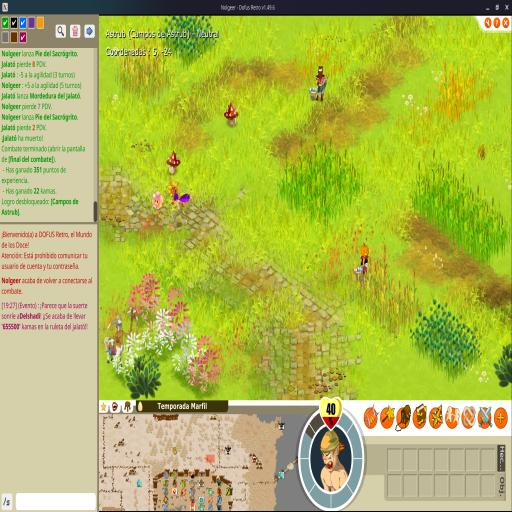Enemigos: (166, 150, 181, 176), (224, 102, 239, 127), (167, 180, 179, 206), (152, 190, 164, 215)
Personaje: (171, 192, 191, 225)
